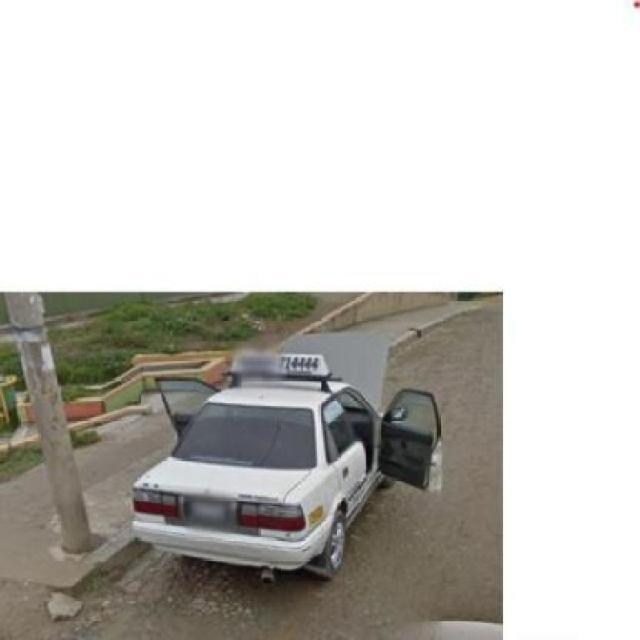car: (134, 340, 453, 602)
